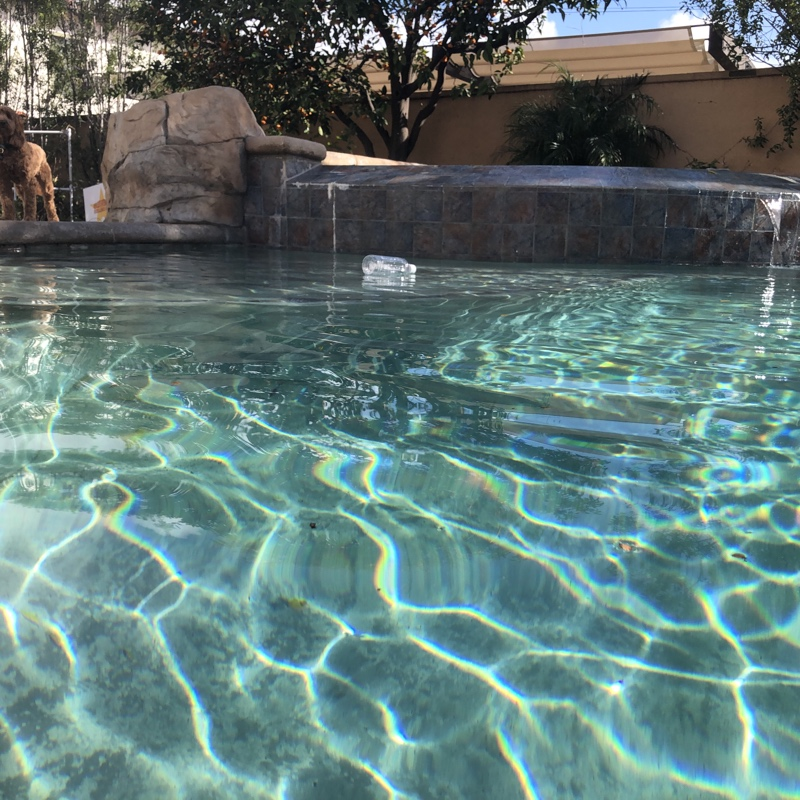Plastic Bottle: (359, 250, 419, 284)
